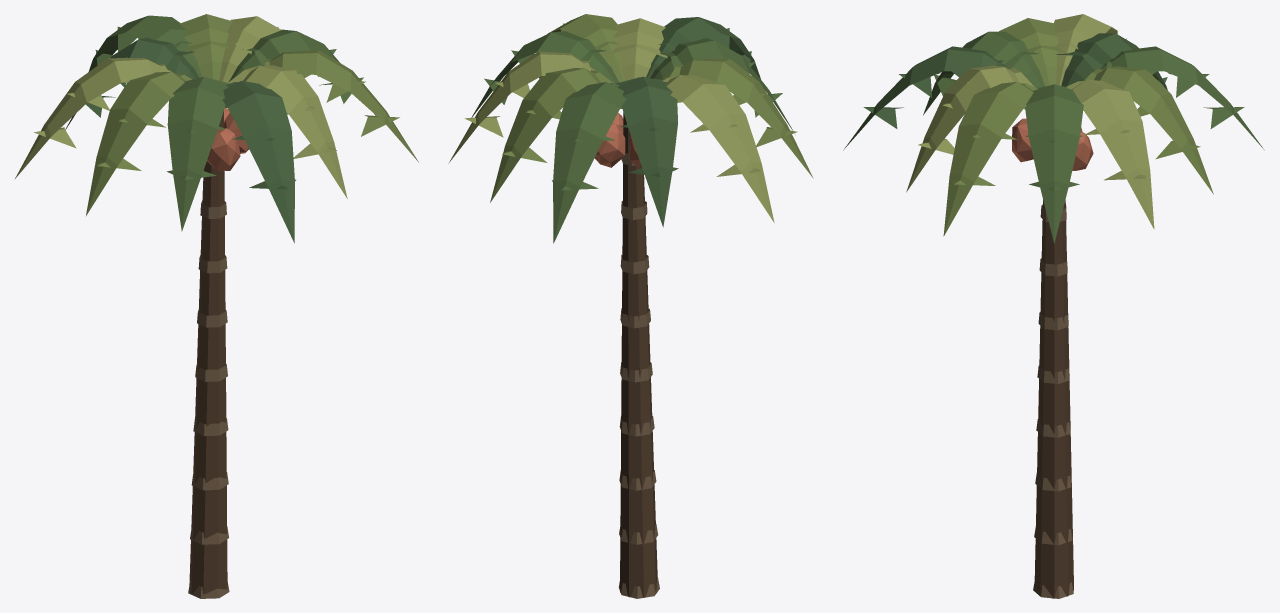
File: palm.glb
3 views of the same model, side by side, from view 1: azimuth 30°, elevation 25°; view 2: azimuth 150°, elevation 25°; view 3: azimuth 270°, elevation 25° (orthographic).
Visible parts, largest first — view 1: palm; view 2: palm; view 3: palm.
Part boxes in pixels (bbox=[...]): palm: bbox=[14, 14, 418, 598]; palm: bbox=[448, 14, 813, 598]; palm: bbox=[843, 14, 1264, 598].
Bounding box in the file's own units: 1.31 × 2.01 × 1.43.
